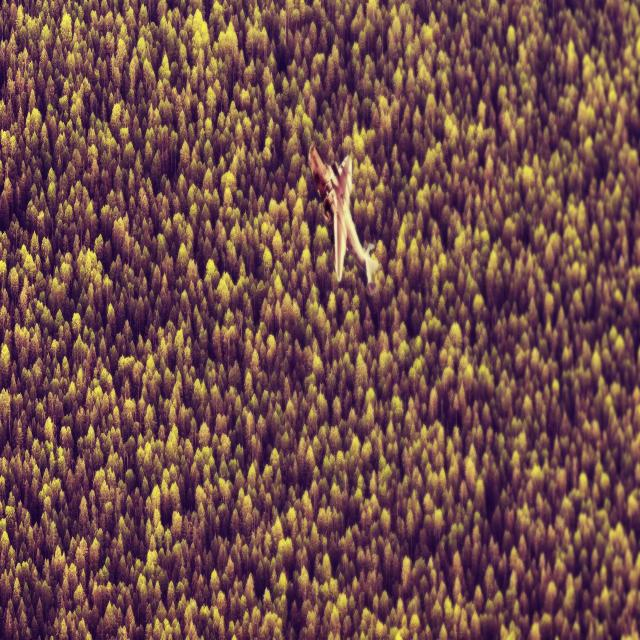airplane: (307, 144, 379, 296)
